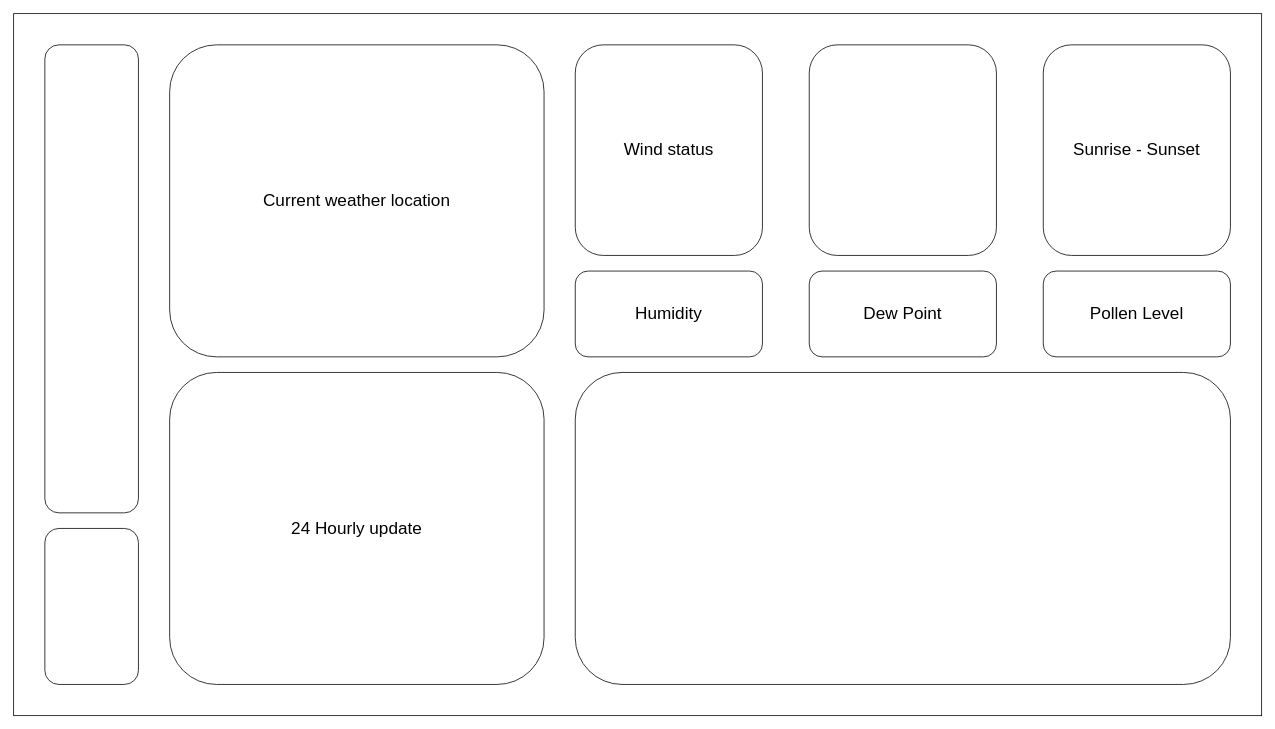
Image size: 1275x729. Some labels were removed from this diagram. The box of each missing label's shape, as (x1, y1, x2, y2) in pixels:
7 Day forecast: (574, 372, 1230, 684)
Icons & menus: (44, 44, 138, 513)
UV index: (808, 44, 996, 255)
Warnings: (44, 528, 138, 684)
